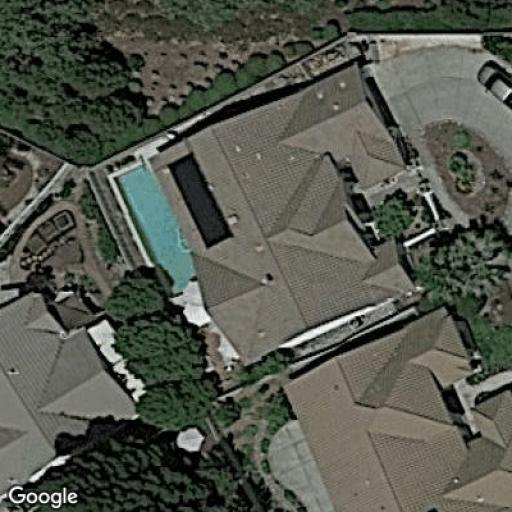solar-panel: (163, 149, 235, 250)
